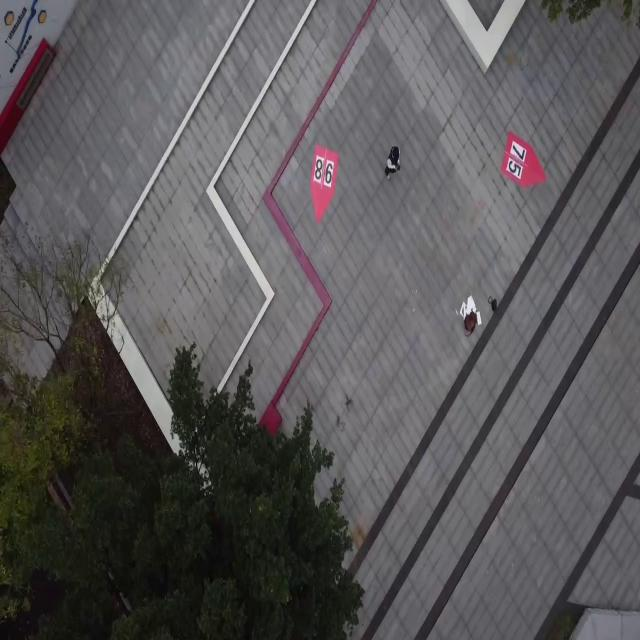-sign-: (500, 130, 546, 188), (312, 144, 339, 224)
